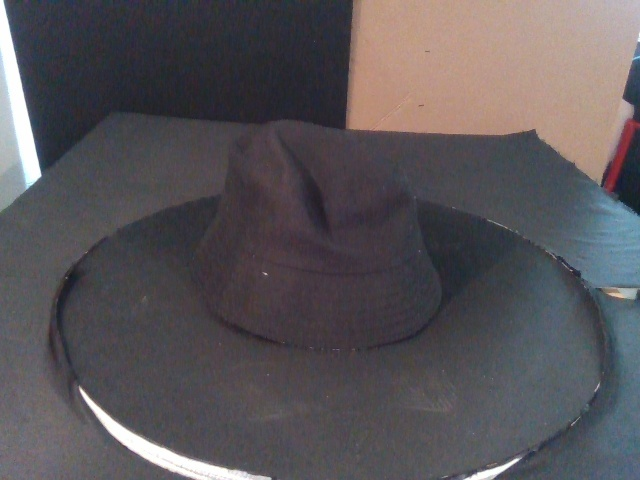hat: (189, 120, 443, 353)
